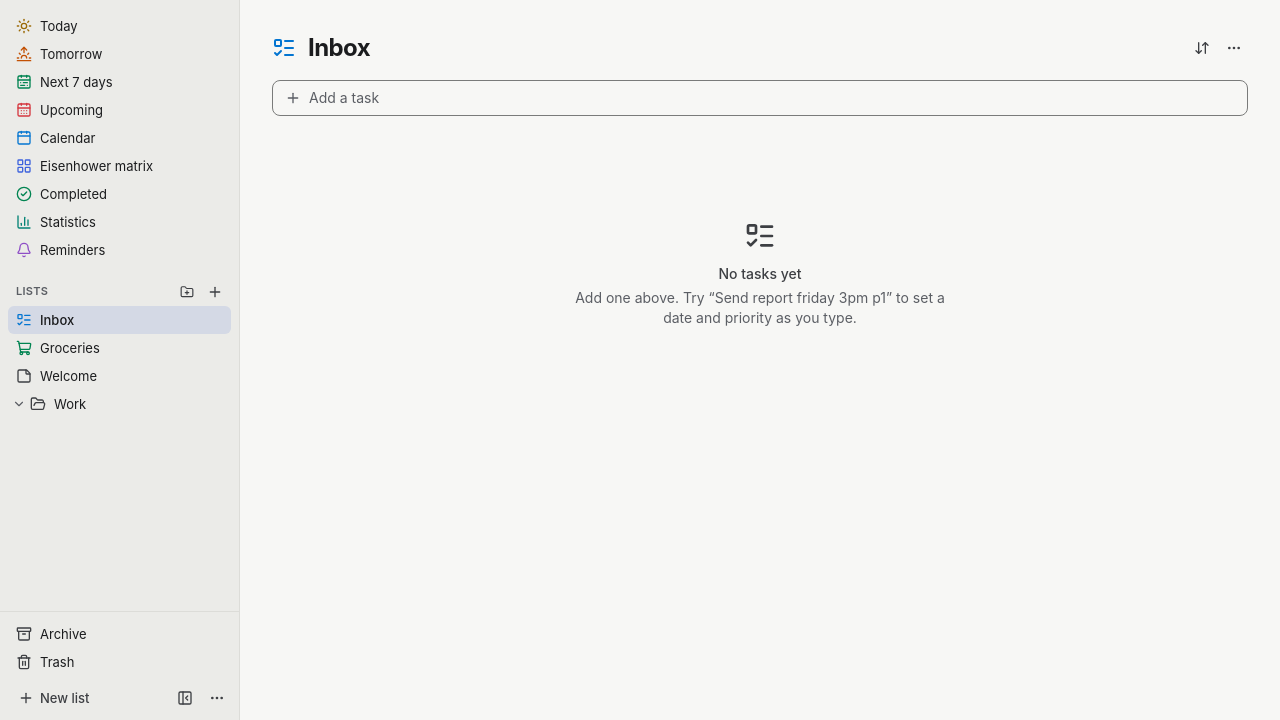
App › creates a list from the New list dialog and opens it
Click the button named "New list": click(215, 292) left=203, top=280, right=227, bottom=304
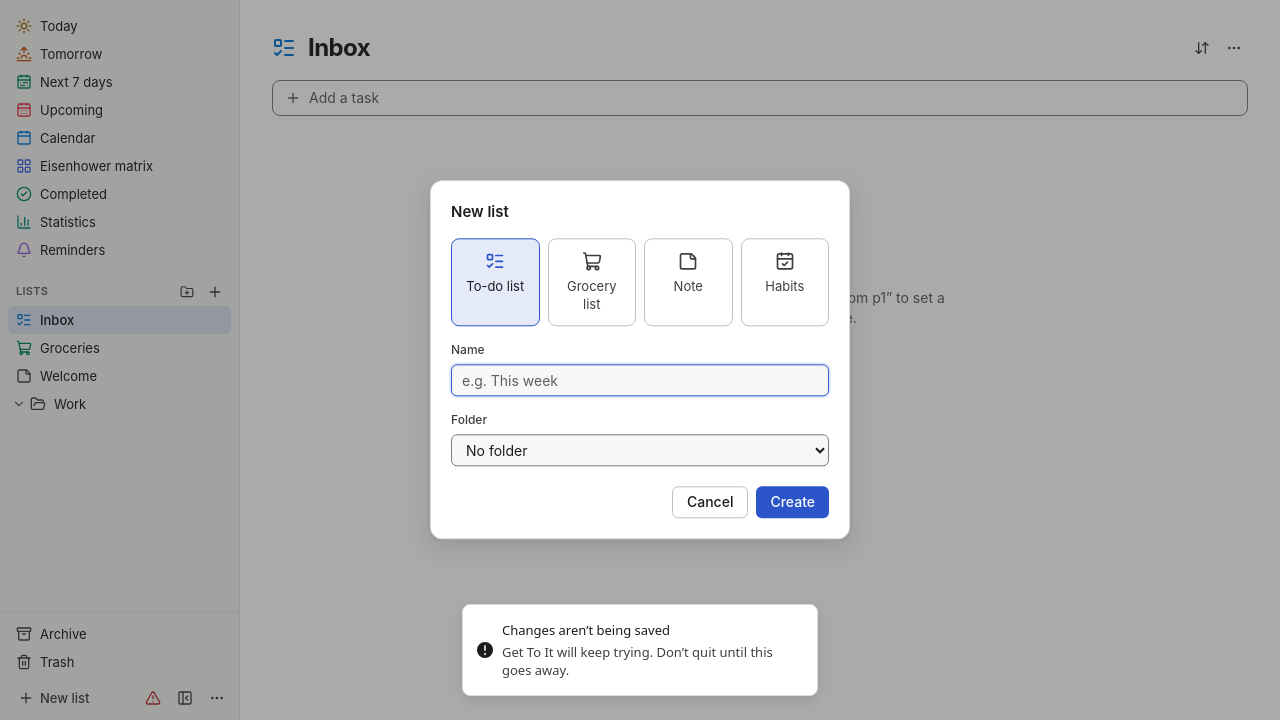
Click the radio button labelled "Note": click(688, 282) left=644, top=238, right=732, bottom=327
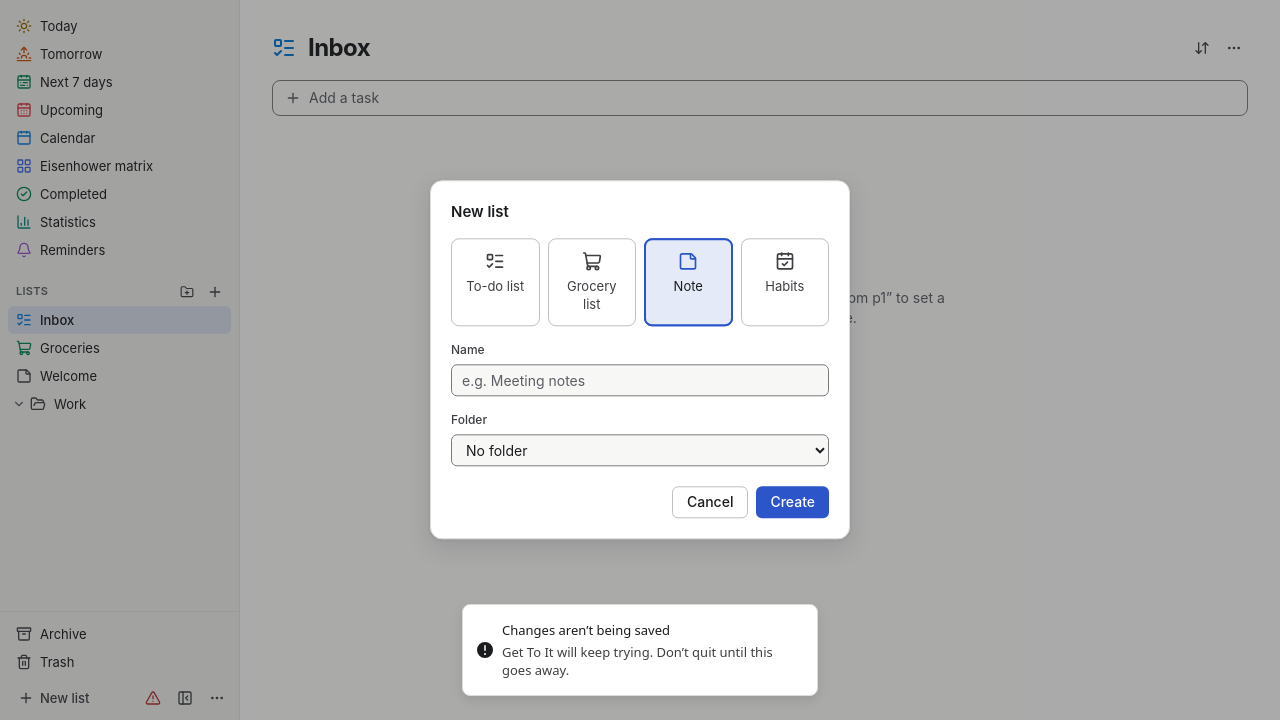
In the field labelled "Name": (640, 381) left=451, top=365, right=829, bottom=397, type "Ideas"
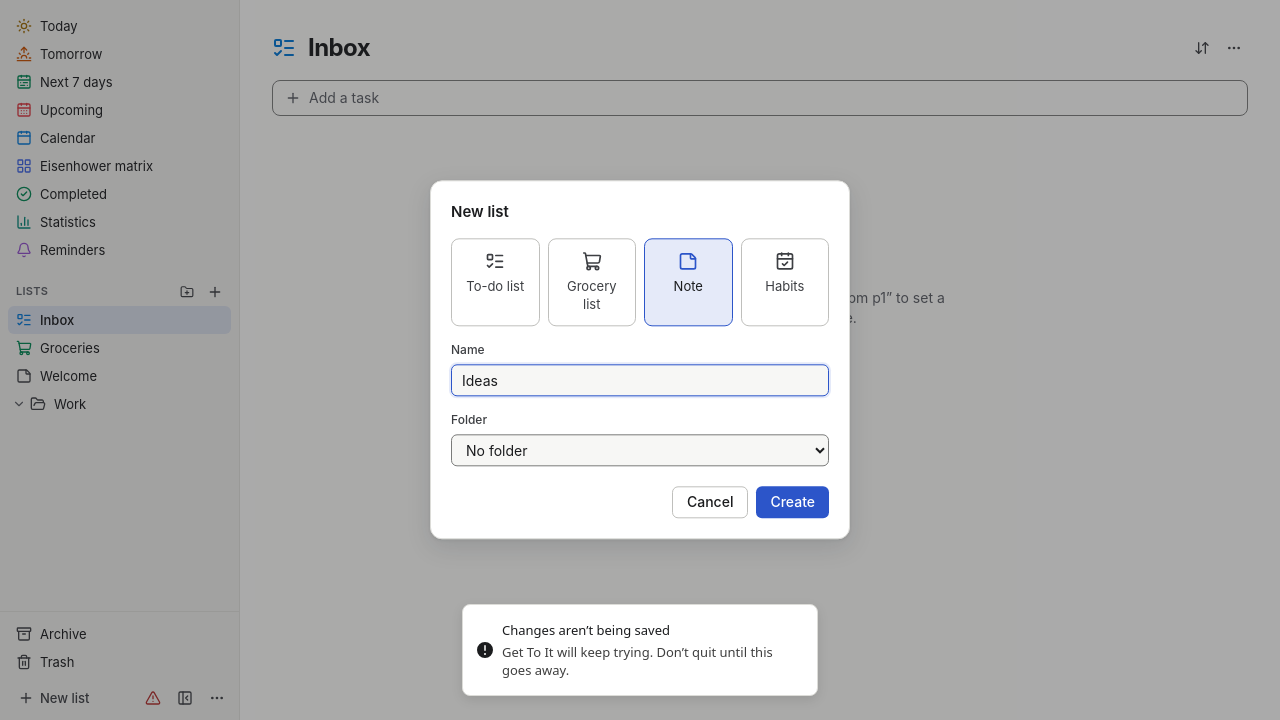
Select "Work" in the dropdown labelled "Folder": (640, 451) left=451, top=435, right=829, bottom=467
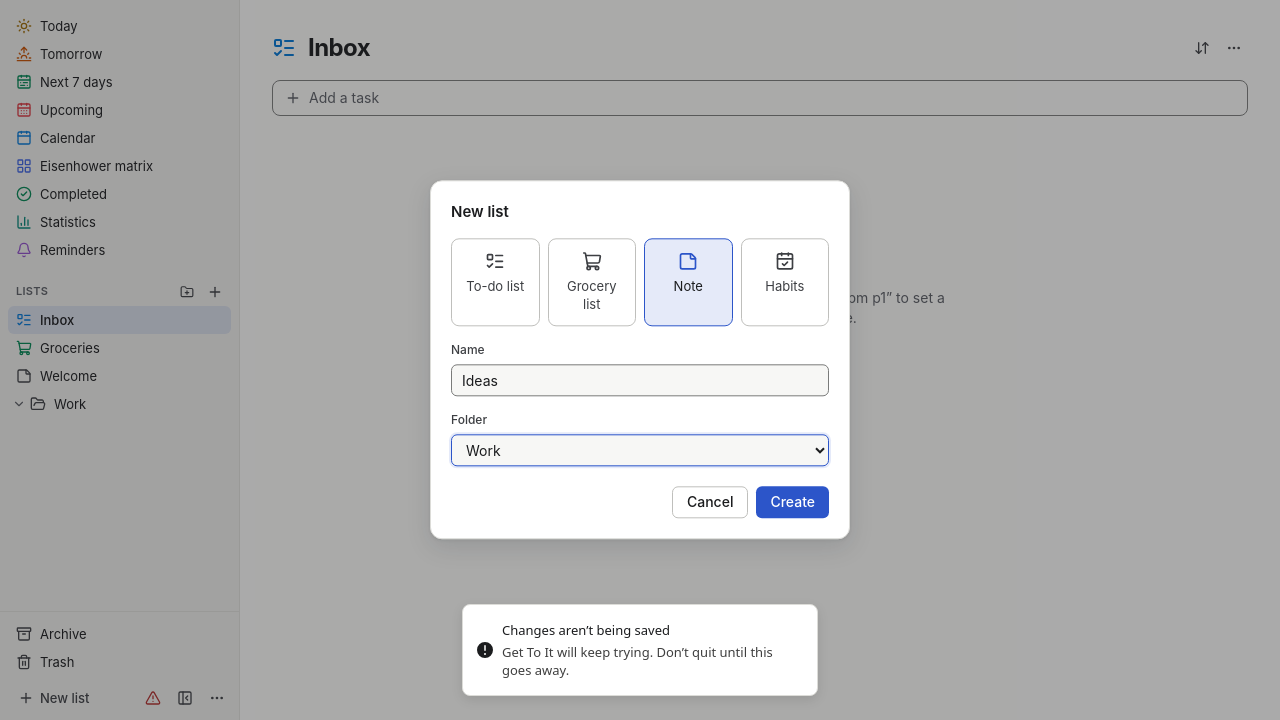
Click the button "Create": click(793, 503) left=756, top=487, right=829, bottom=519
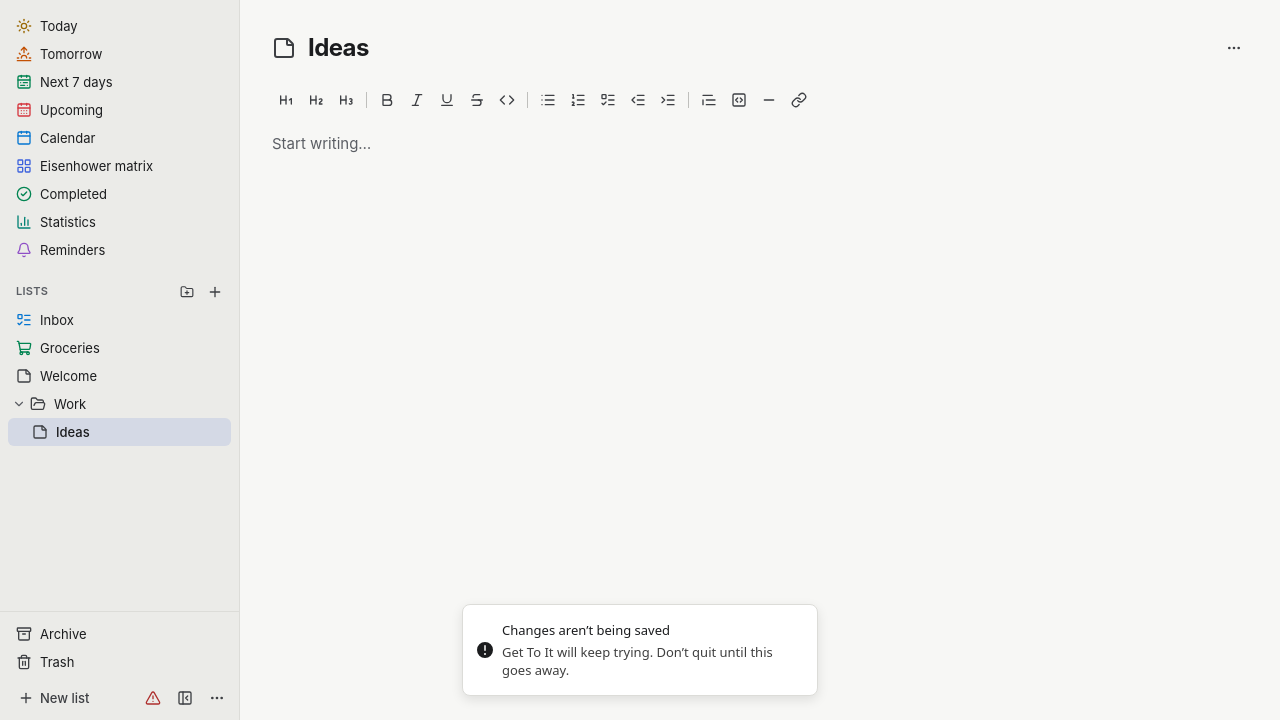
Expected: the text "Work" is shown, left=54, top=396, right=86, bottom=412
Expected: the dialog is gone
Expected: the field named "List name" holds "Ideas", left=308, top=32, right=1208, bottom=64
